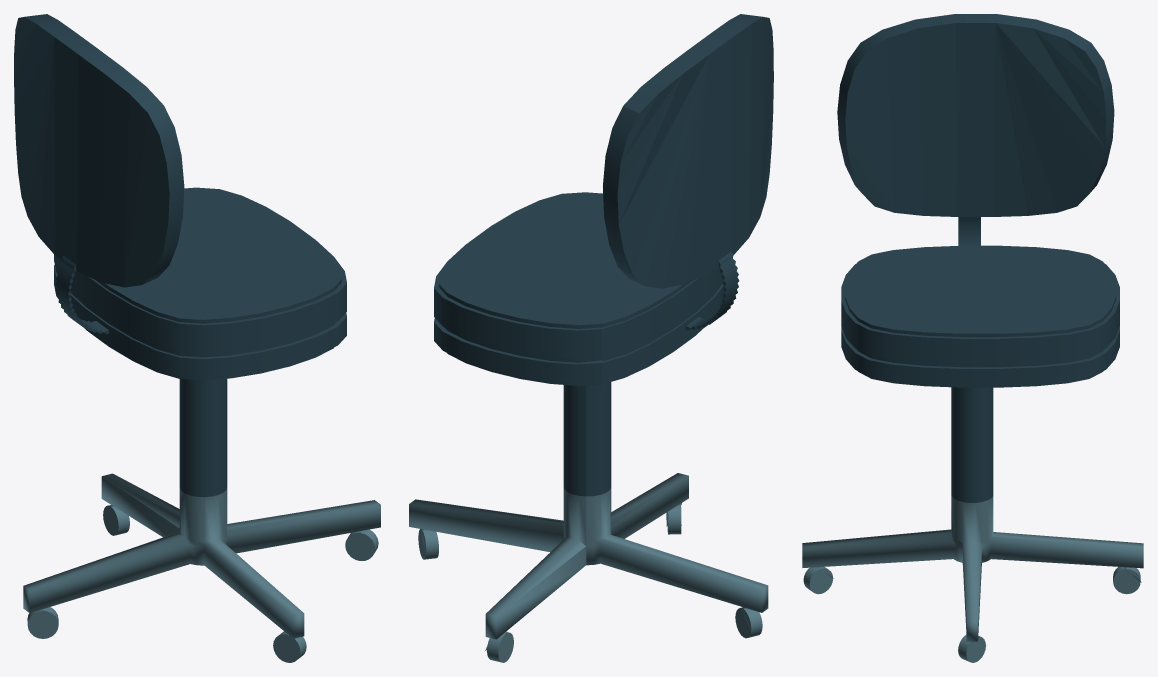
Rendered from silla.obj.
The picture shows the model from 3 angles, left to right: view 1: azimuth 30°, elevation 25°; view 2: azimuth 150°, elevation 25°; view 3: azimuth 270°, elevation 25°; orthographic projection. The views are drawn at different scales.
Visible parts, largest first — view 1: AnyConv.com__Chair; view 2: AnyConv.com__Chair; view 3: AnyConv.com__Chair.
Boxes of the visible parts, <box> form: AnyConv.com__Chair: <box>14,14,380,662</box>; AnyConv.com__Chair: <box>409,14,773,662</box>; AnyConv.com__Chair: <box>802,14,1143,662</box>.
Size of the model in its own units: 0.5405 by 0.857 by 0.5104.
Materials: 2 (2 with a texture image).
